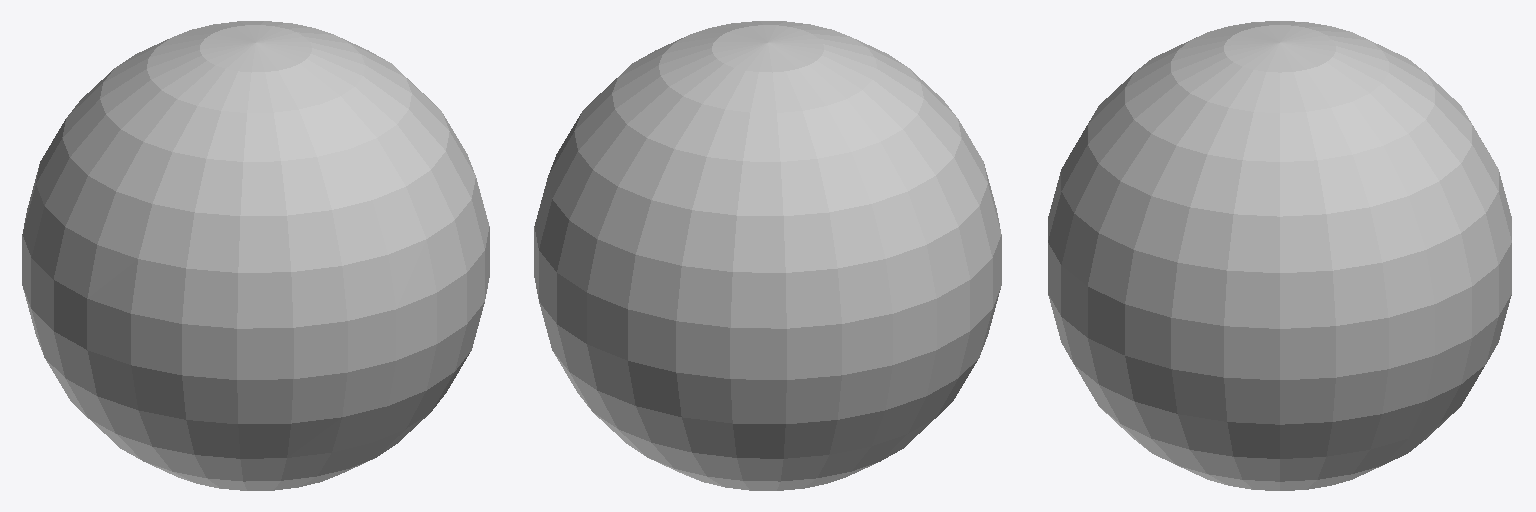
File: IonPlasmaSphere.obj
3 renders of one model, left to right at view 1: azimuth 30°, elevation 25°; view 2: azimuth 150°, elevation 25°; view 3: azimuth 270°, elevation 25°, orthographic.
Parts seen in each view (by area): view 1: Sphere; view 2: Sphere; view 3: Sphere.
Part boxes in pixels (x1,y1,x2,y2): Sphere: (22, 21, 489, 490); Sphere: (534, 21, 1001, 490); Sphere: (1048, 21, 1511, 490).
Size of the model in its own units: 0.0199 by 0.02 by 0.0197.